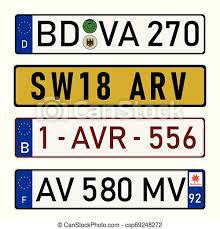0: (183, 20, 200, 46), (117, 177, 133, 203)
1: (79, 70, 91, 101), (38, 124, 49, 150)
2: (147, 20, 164, 47)
5: (81, 175, 97, 203), (165, 124, 180, 149), (149, 124, 163, 149)
6: (183, 125, 197, 150)
7: (165, 20, 181, 46)
8: (96, 71, 111, 101), (99, 176, 116, 202)
A: (119, 19, 141, 47), (35, 175, 56, 204), (129, 71, 147, 101), (70, 124, 89, 150)
B: (37, 20, 57, 48)
D: (61, 19, 80, 48)
M: (143, 175, 166, 204)
R: (149, 71, 166, 100), (108, 125, 126, 151)
S: (30, 71, 47, 102)
V: (98, 19, 119, 47), (55, 175, 75, 203), (166, 175, 186, 203), (171, 70, 188, 100), (89, 124, 107, 149)
W: (52, 70, 72, 102)
